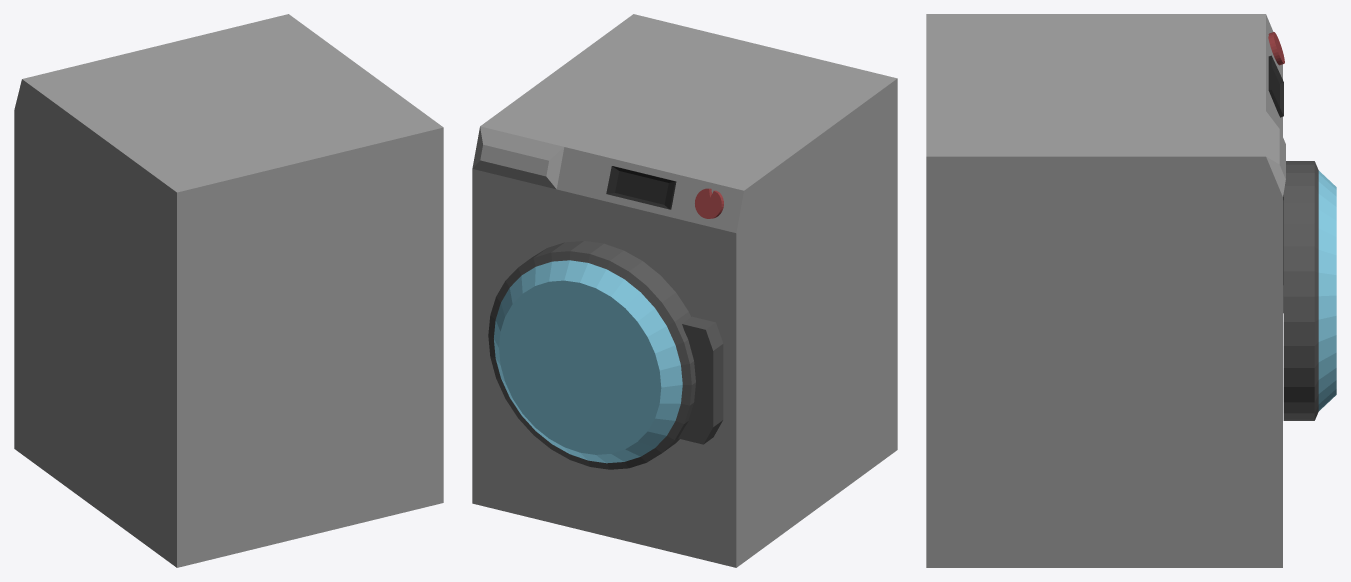
File: Maquina_lavar.fbx
The picture shows the model from 3 angles, left to right: view 1: azimuth 30°, elevation 25°; view 2: azimuth 150°, elevation 25°; view 3: azimuth 270°, elevation 25°; orthographic projection. The views are drawn at different scales.
Parts seen in each view (by area): view 1: Base; view 2: Base, Tampa, Aste, Painel, Botao; view 3: Base, Tampa, Painel.
Boxes of the visible parts, x1,y1,x2,y2 form: Base: (14, 14, 443, 567); Base: (472, 14, 897, 567); Tampa: (488, 241, 695, 469); Aste: (678, 316, 723, 444); Painel: (606, 166, 676, 209); Botao: (695, 188, 723, 218); Base: (926, 14, 1285, 567); Tampa: (1283, 161, 1336, 420); Painel: (1268, 55, 1283, 117).
Size of the model in its own units: 520 by 700 by 633.
